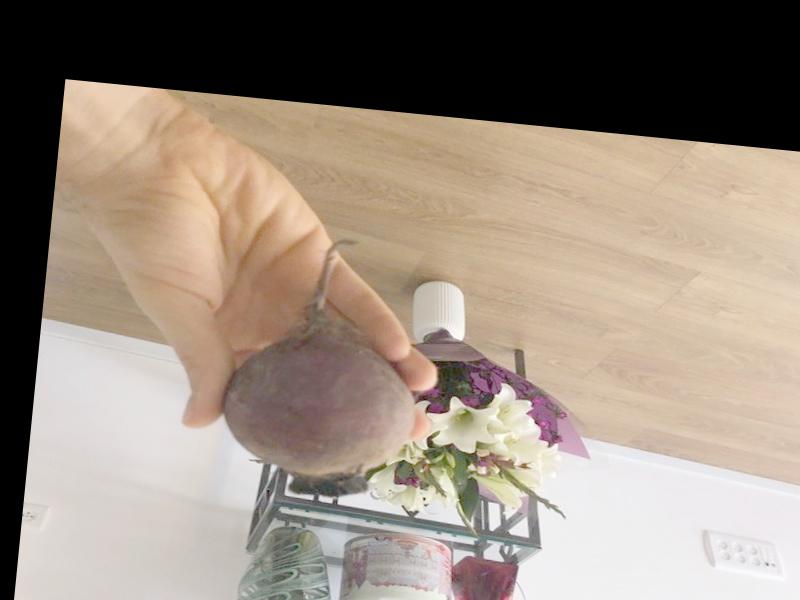Beet: (215, 229, 432, 505)
